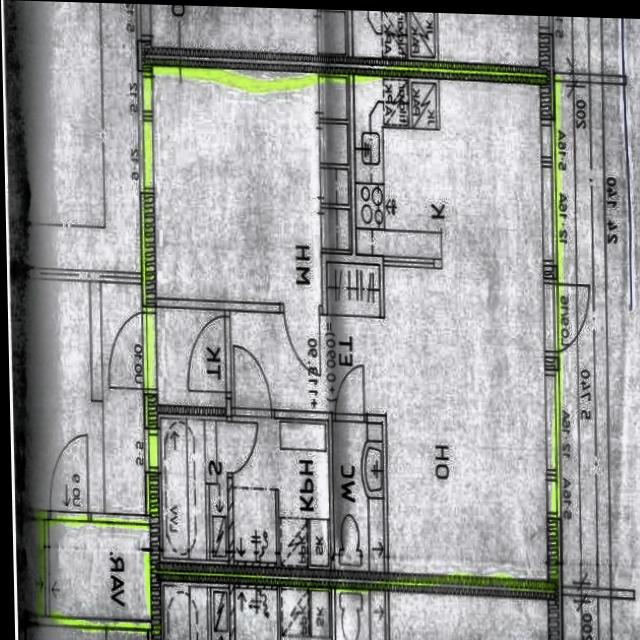room: (231, 415, 330, 572), (160, 417, 228, 562), (331, 420, 384, 574), (155, 306, 225, 409)
